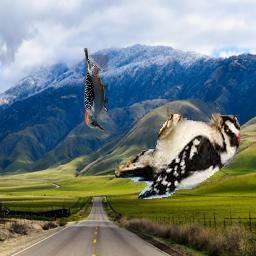Woodpecker: (110, 107, 240, 199), (84, 48, 108, 132)
